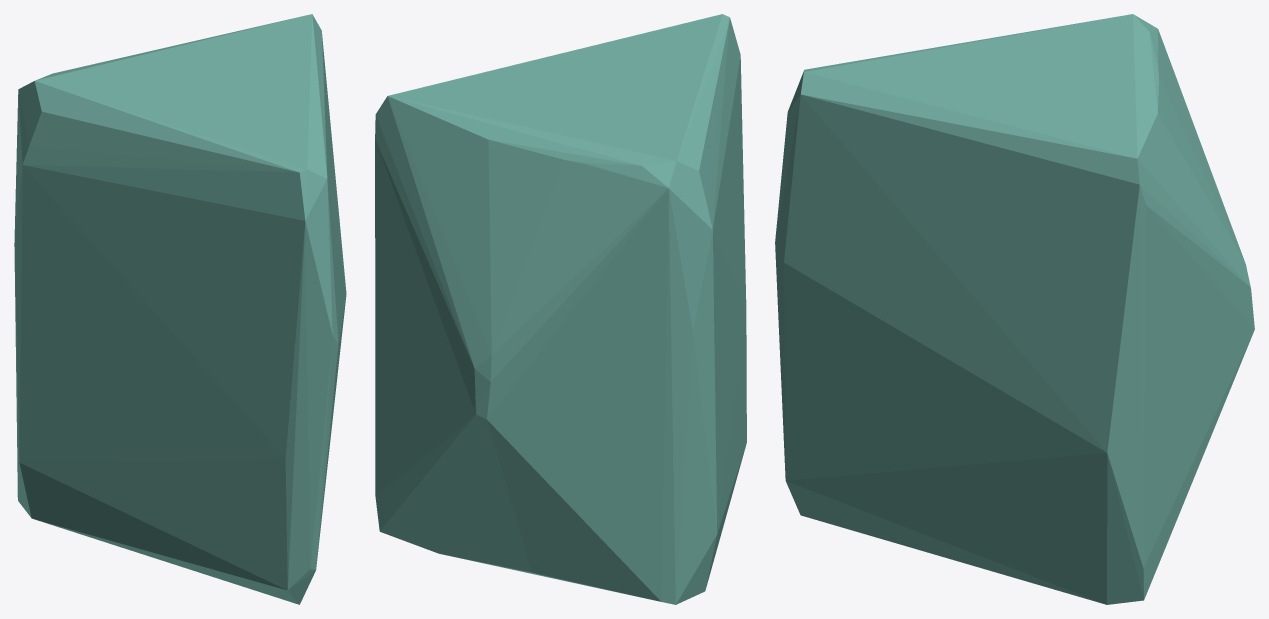
File: serviceTool_tester_fuelPressureKit_a01.glb
The picture shows the model from 3 angles, left to right: view 1: azimuth 30°, elevation 25°; view 2: azimuth 150°, elevation 25°; view 3: azimuth 270°, elevation 25°; orthographic projection. The views are drawn at different scales.
Visible parts, largest first — view 1: geometry_0; view 2: geometry_0; view 3: geometry_0.
Part boxes in pixels (x1,y1,x2,y2): geometry_0: (14, 14, 346, 604); geometry_0: (375, 14, 746, 604); geometry_0: (775, 14, 1254, 604).
Bounding box in the file's own units: 0.3758 × 0.4793 × 0.4608.
